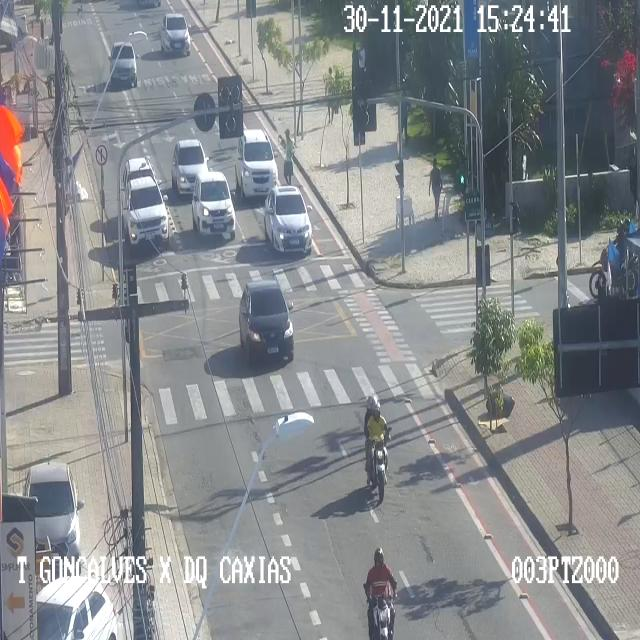Car: (21, 459, 84, 572), (36, 573, 118, 639), (239, 279, 293, 367), (118, 175, 168, 255), (264, 184, 312, 262), (190, 171, 236, 239), (236, 128, 278, 197), (171, 140, 209, 194), (120, 156, 154, 214), (159, 12, 193, 55), (109, 42, 137, 86)
Motorcycle: (588, 218, 636, 298), (362, 547, 396, 639), (365, 393, 391, 504)
